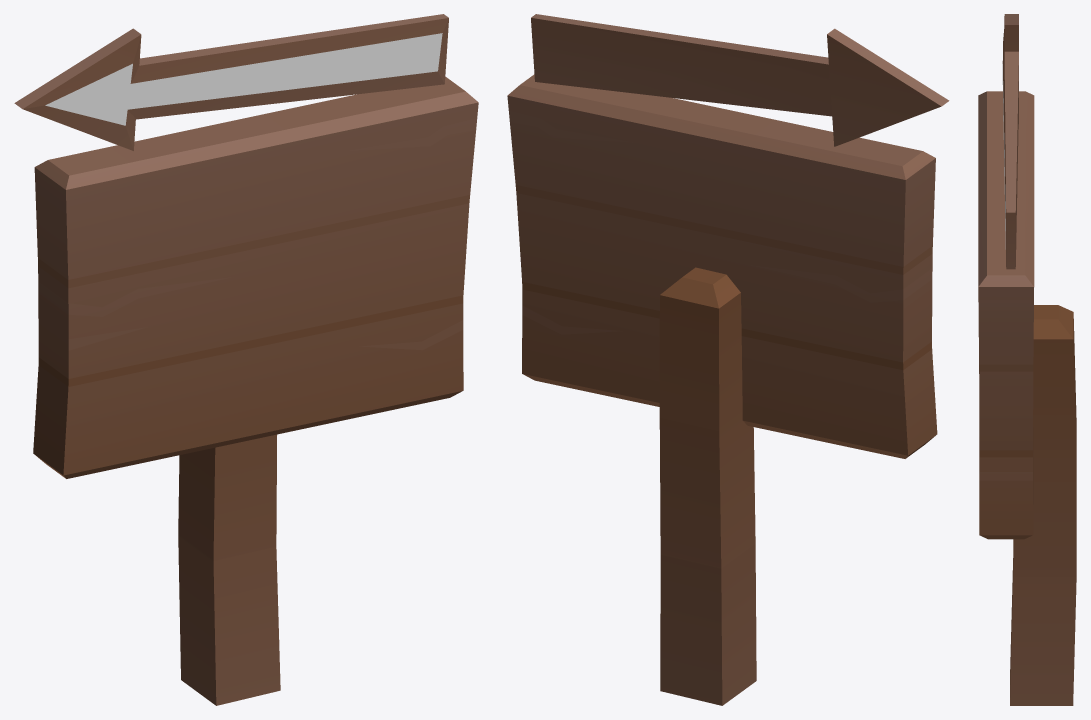
Rendered from Plaque.fbx.
3 views of the same model, side by side, from view 1: azimuth 30°, elevation 25°; view 2: azimuth 150°, elevation 25°; view 3: azimuth 270°, elevation 25° (orthographic). The views are drawn at different scales.
Parts seen in each view (by area): view 1: Cube.013, Cube.012; view 2: Cube.013, Cube.012; view 3: Cube.013, Cube.012.
Part boxes in pixels (left/top/right/bottom): Cube.013: left=33, top=76, right=478, bottom=705; Cube.012: left=14, top=14, right=448, bottom=150; Cube.013: left=507, top=74, right=937, bottom=705; Cube.012: left=531, top=14, right=949, bottom=146; Cube.013: left=978, top=91, right=1076, bottom=705; Cube.012: left=1002, top=14, right=1018, bottom=269.
Size of the model in its own units: 0.4681 by 0.101 by 0.7021.
